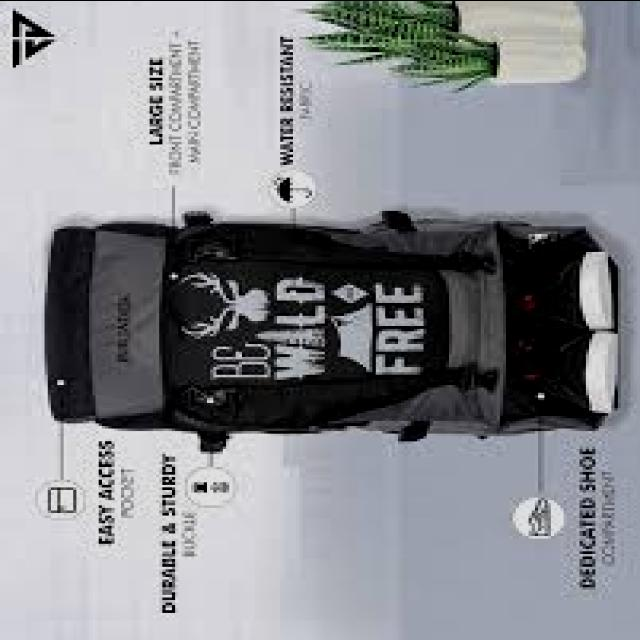backpack: (43, 211, 619, 449)
